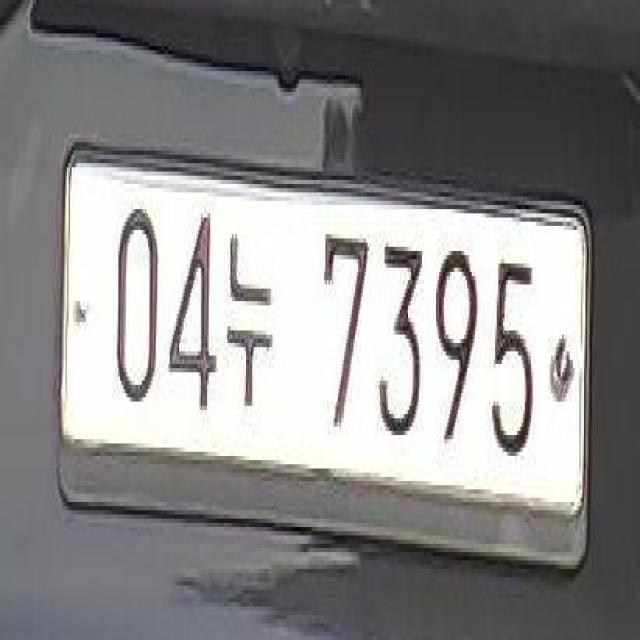illegal_plate: (66, 152, 597, 573)
